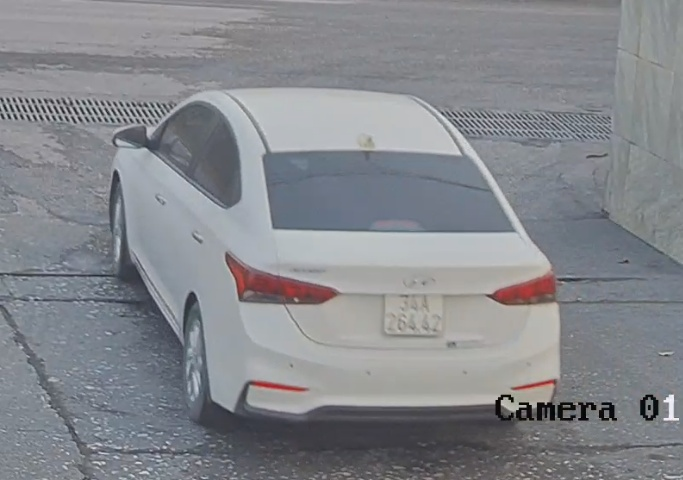vehicle plate: (382, 287, 449, 337)
